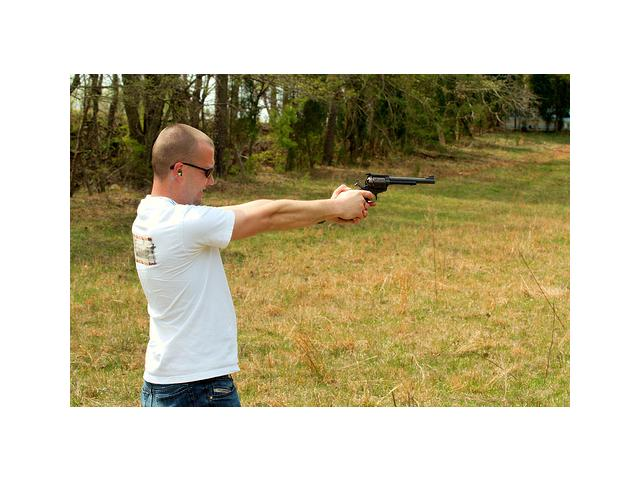pistol: (347, 173, 443, 224)
